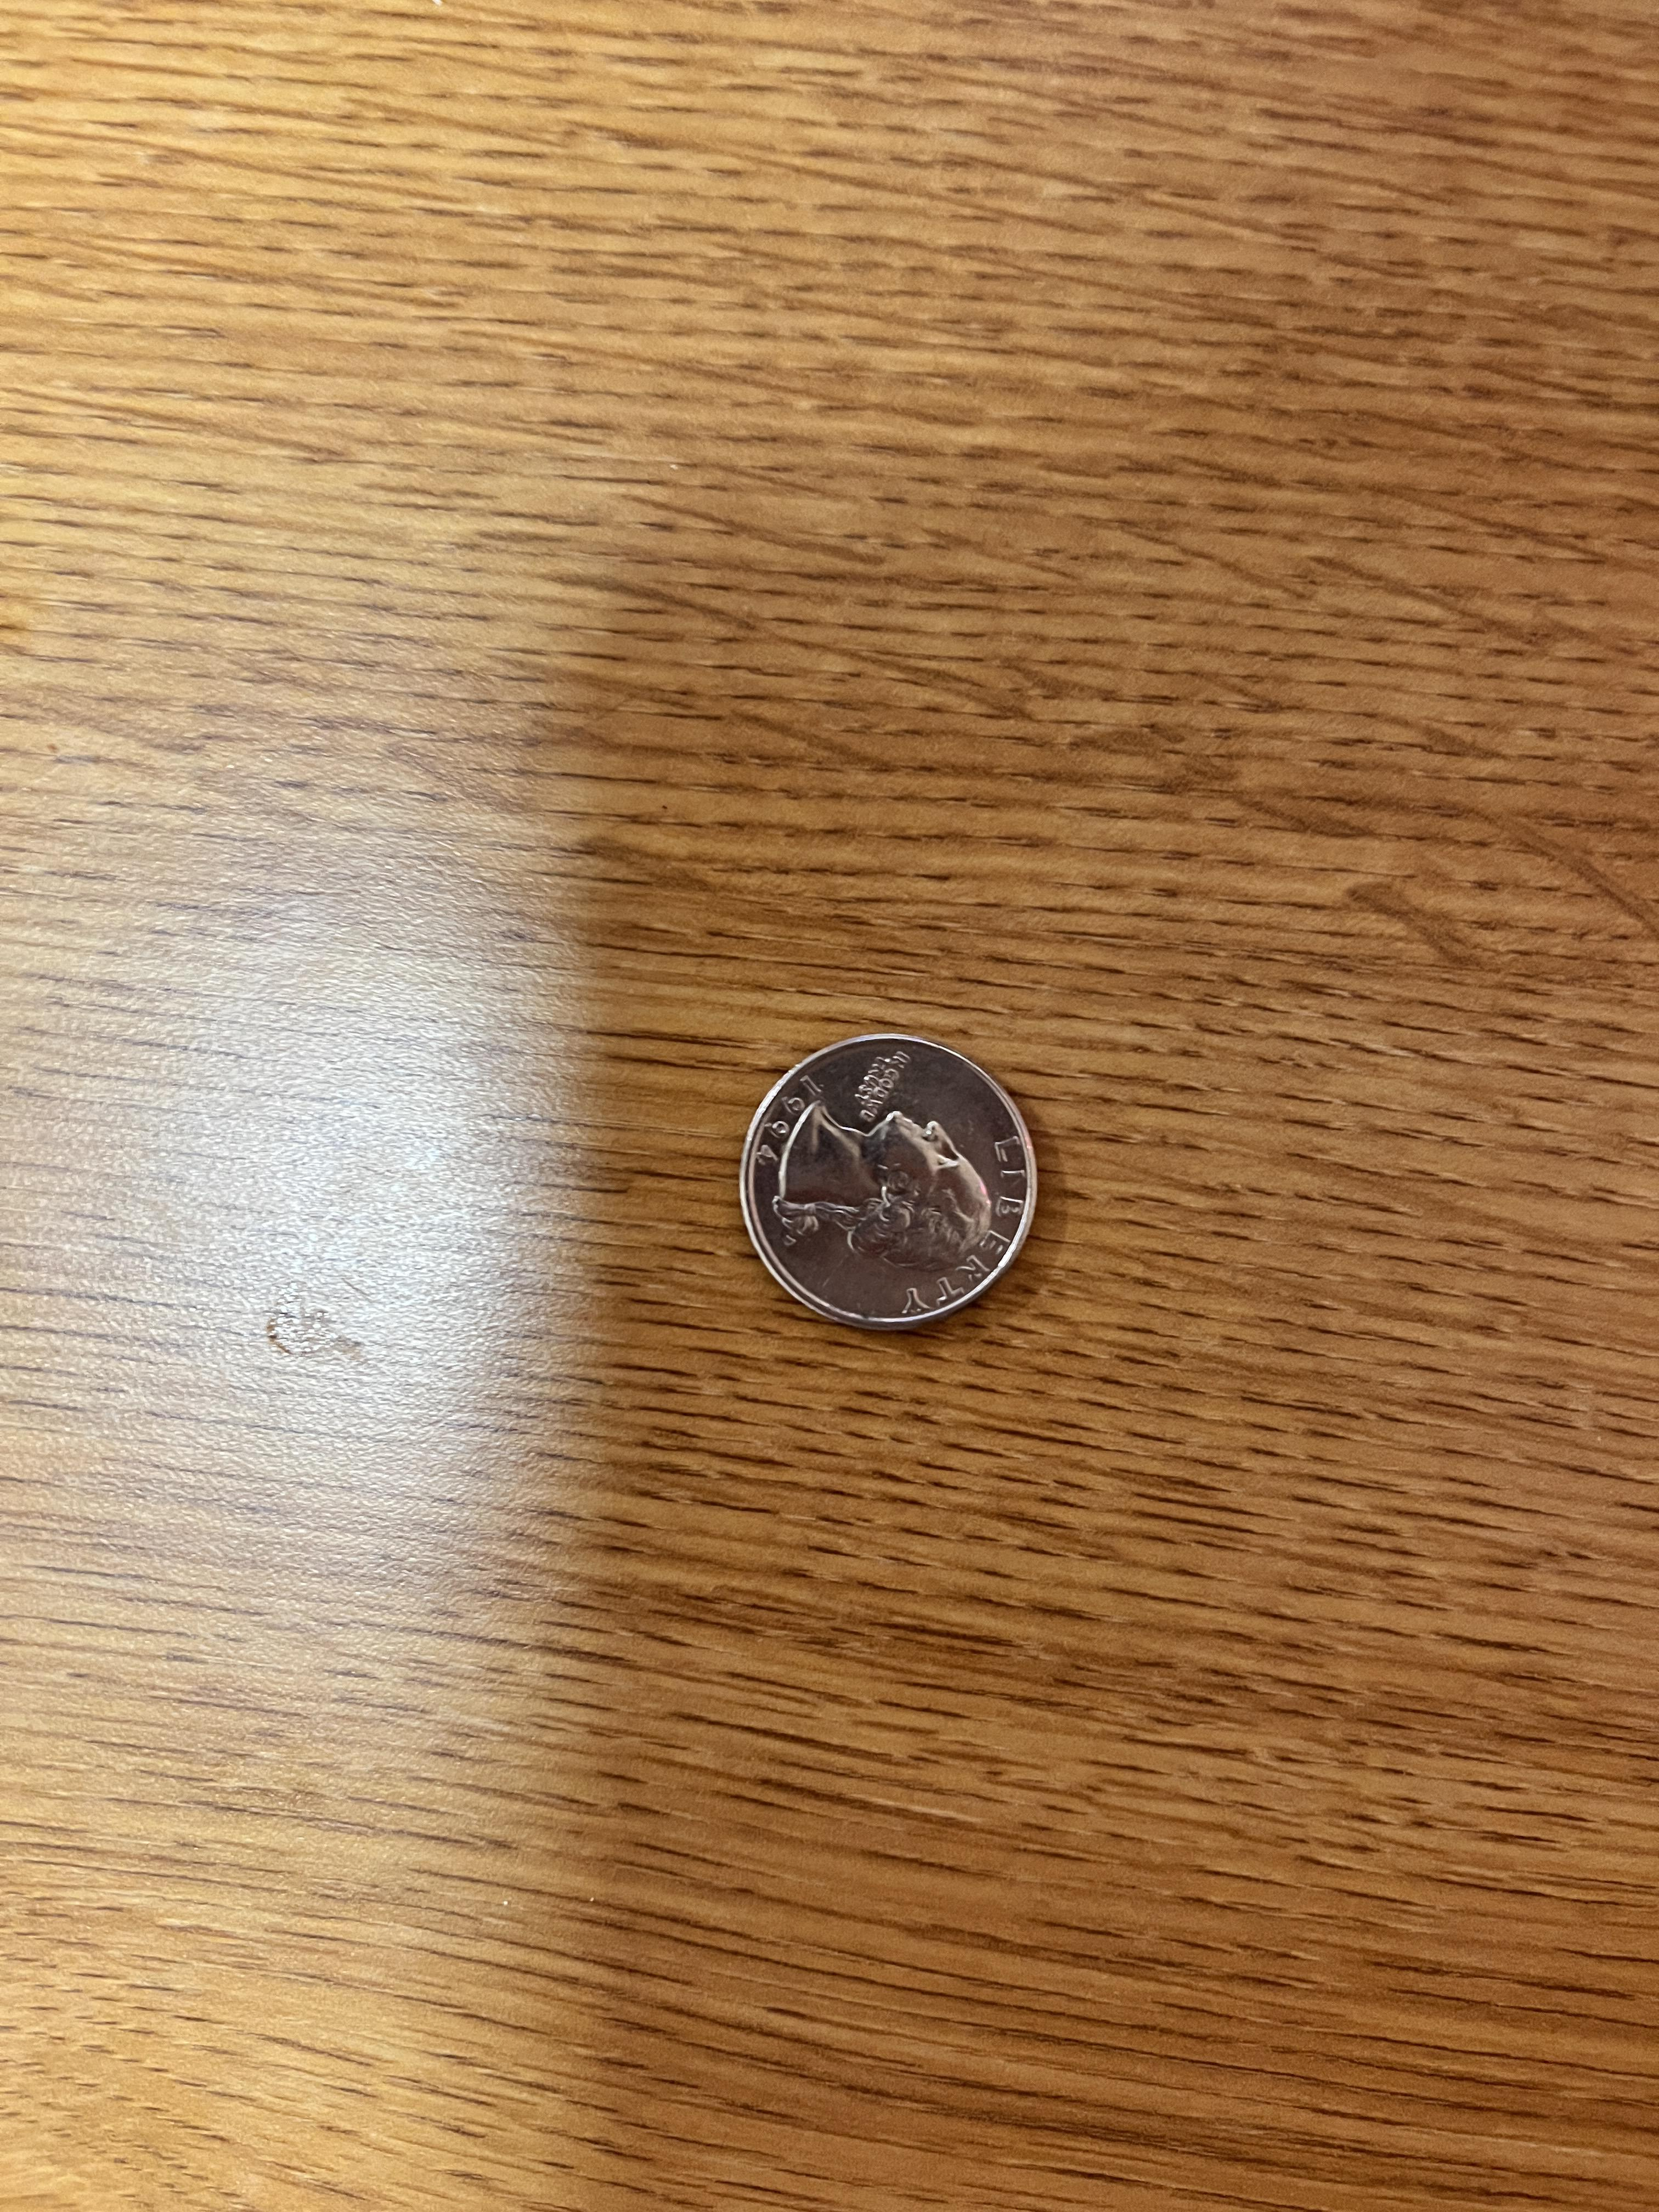Quarter: (716, 1029, 1053, 1343)
